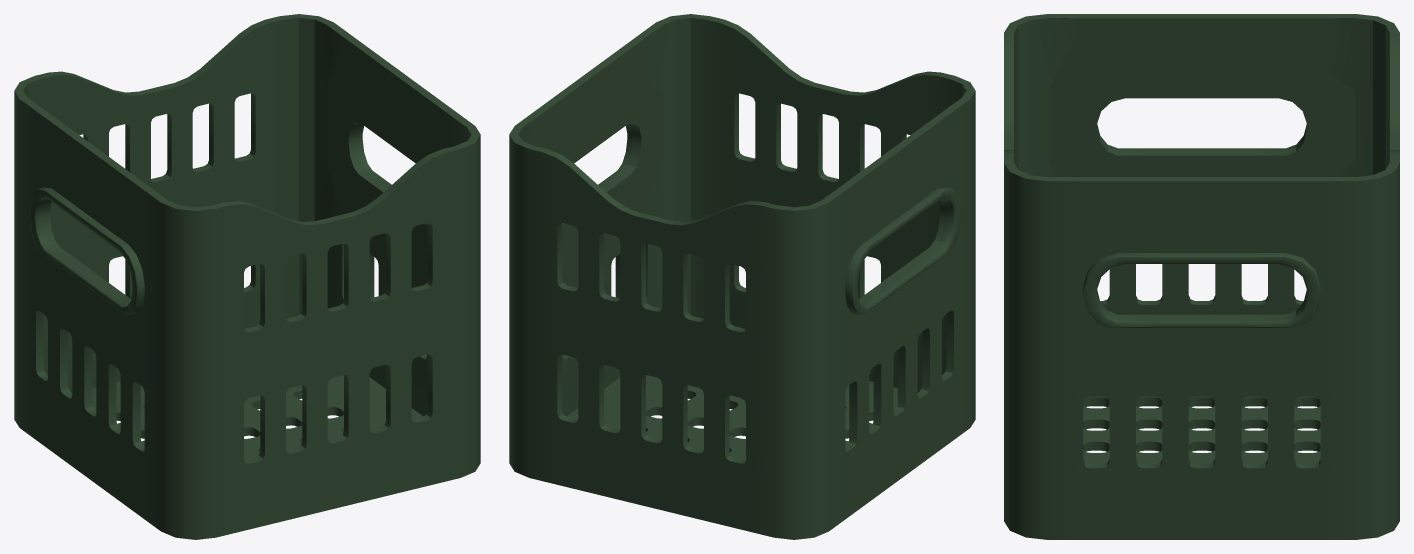
Rendered from PlasticBasket.fbx.
3 views of the same model, side by side, from view 1: azimuth 30°, elevation 25°; view 2: azimuth 150°, elevation 25°; view 3: azimuth 270°, elevation 25° (orthographic). The views are drawn at different scales.
Visible parts, largest first — view 1: PlasticBasket; view 2: PlasticBasket; view 3: PlasticBasket.
Part boxes in pixels (left/top/right/bottom): PlasticBasket: left=14, top=14, right=480, bottom=539; PlasticBasket: left=509, top=14, right=975, bottom=539; PlasticBasket: left=1004, top=14, right=1399, bottom=539.
Size of the model in its own units: 210 by 200 by 200.
